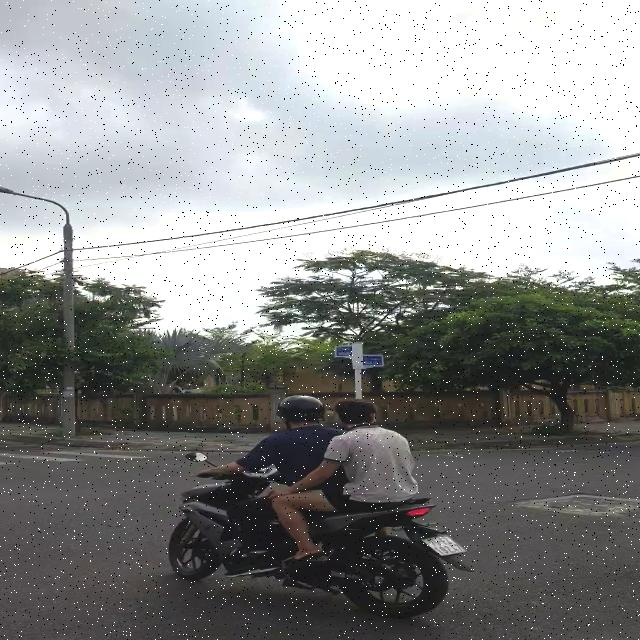helmet: (277, 395, 325, 436)
no_helmet: (338, 395, 381, 434)
